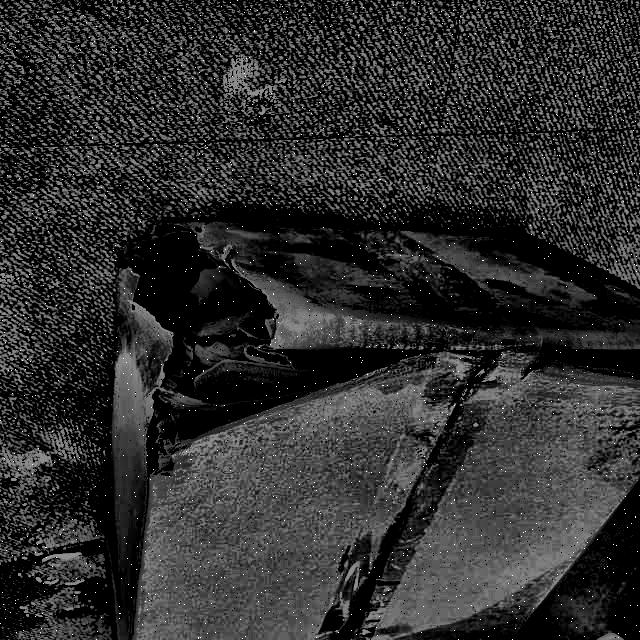box: (95, 216, 639, 640)
hole: (113, 241, 406, 461), (538, 345, 640, 383)
